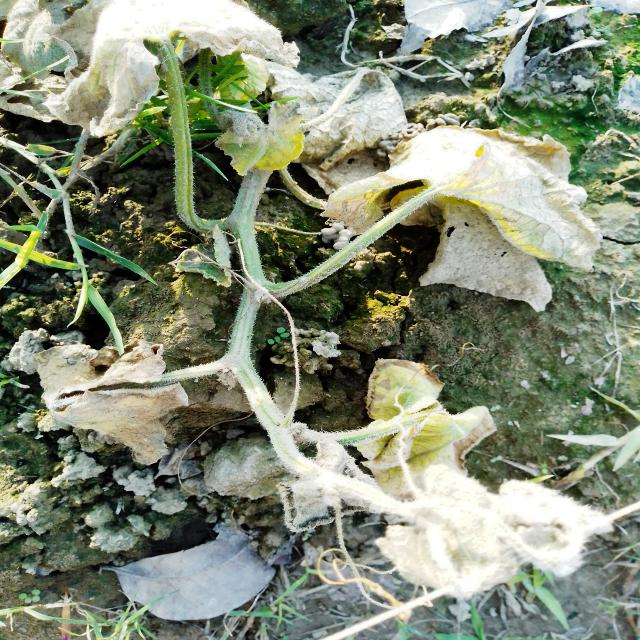Bacterial-Wilt: (319, 123, 606, 313), (33, 341, 190, 467), (265, 60, 409, 192), (358, 359, 498, 494)
